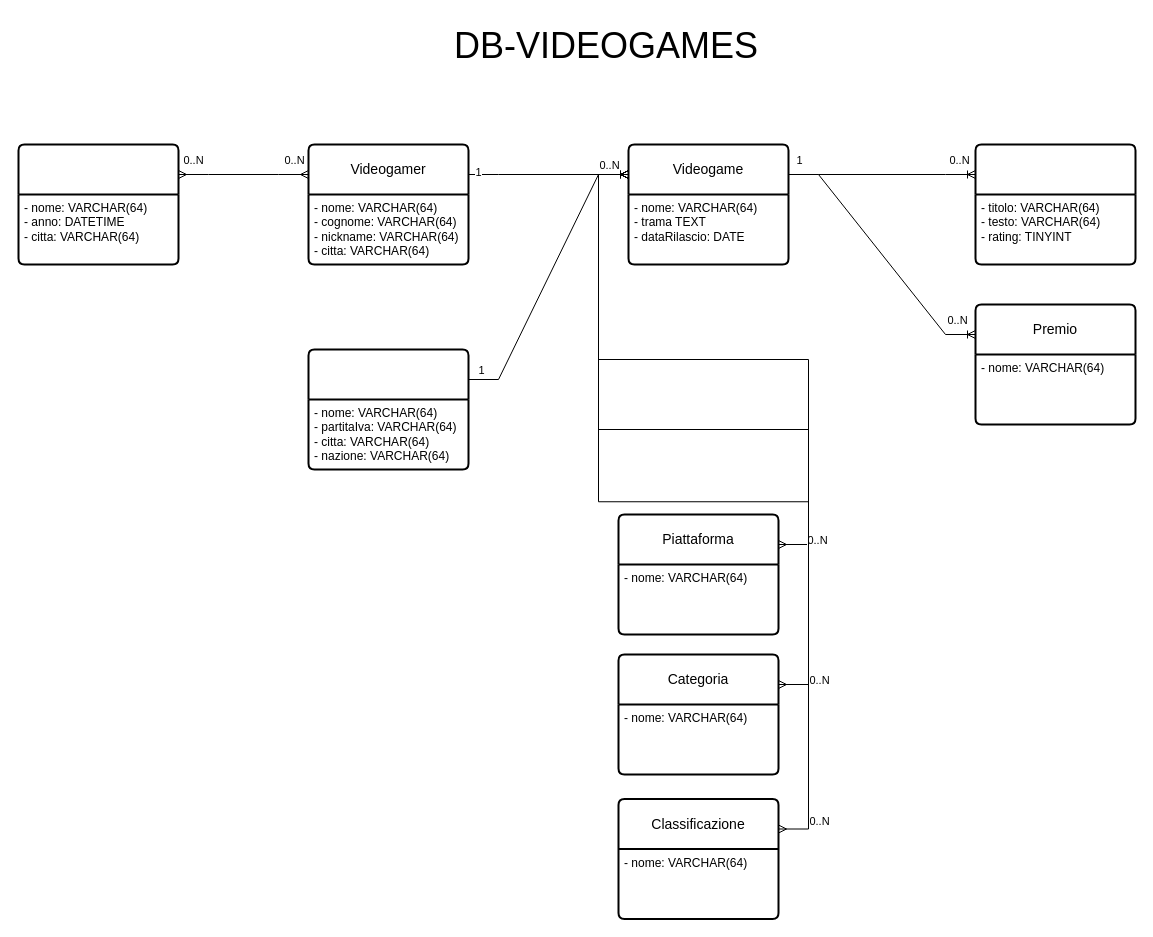
The diagram is 1153 pixels wide and 937 high, and some of its shapes have lost their labels. Each missing label, with the box of its shape:
Recensione: (974, 143, 1136, 265)
SoftwareHouse: (307, 348, 469, 470)
Torneo: (17, 143, 179, 265)
